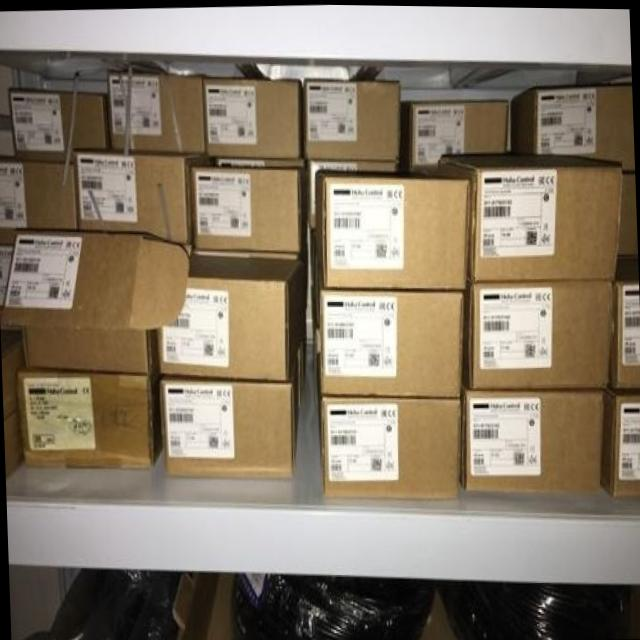box: (1, 230, 191, 374), (441, 152, 622, 280), (315, 254, 464, 395), (315, 160, 474, 289), (157, 250, 304, 380), (318, 381, 463, 497), (160, 358, 300, 477), (468, 279, 612, 387), (461, 386, 605, 490), (18, 364, 163, 467), (75, 150, 214, 244), (510, 78, 633, 167), (191, 165, 305, 252), (107, 73, 206, 157), (302, 75, 399, 159), (203, 76, 301, 159), (400, 97, 508, 170), (9, 88, 112, 161), (305, 157, 399, 229), (0, 161, 78, 231), (600, 387, 640, 493), (608, 254, 640, 386), (0, 329, 27, 421), (0, 230, 19, 327), (616, 167, 636, 254), (3, 404, 25, 482), (213, 157, 307, 166), (0, 114, 13, 160)
